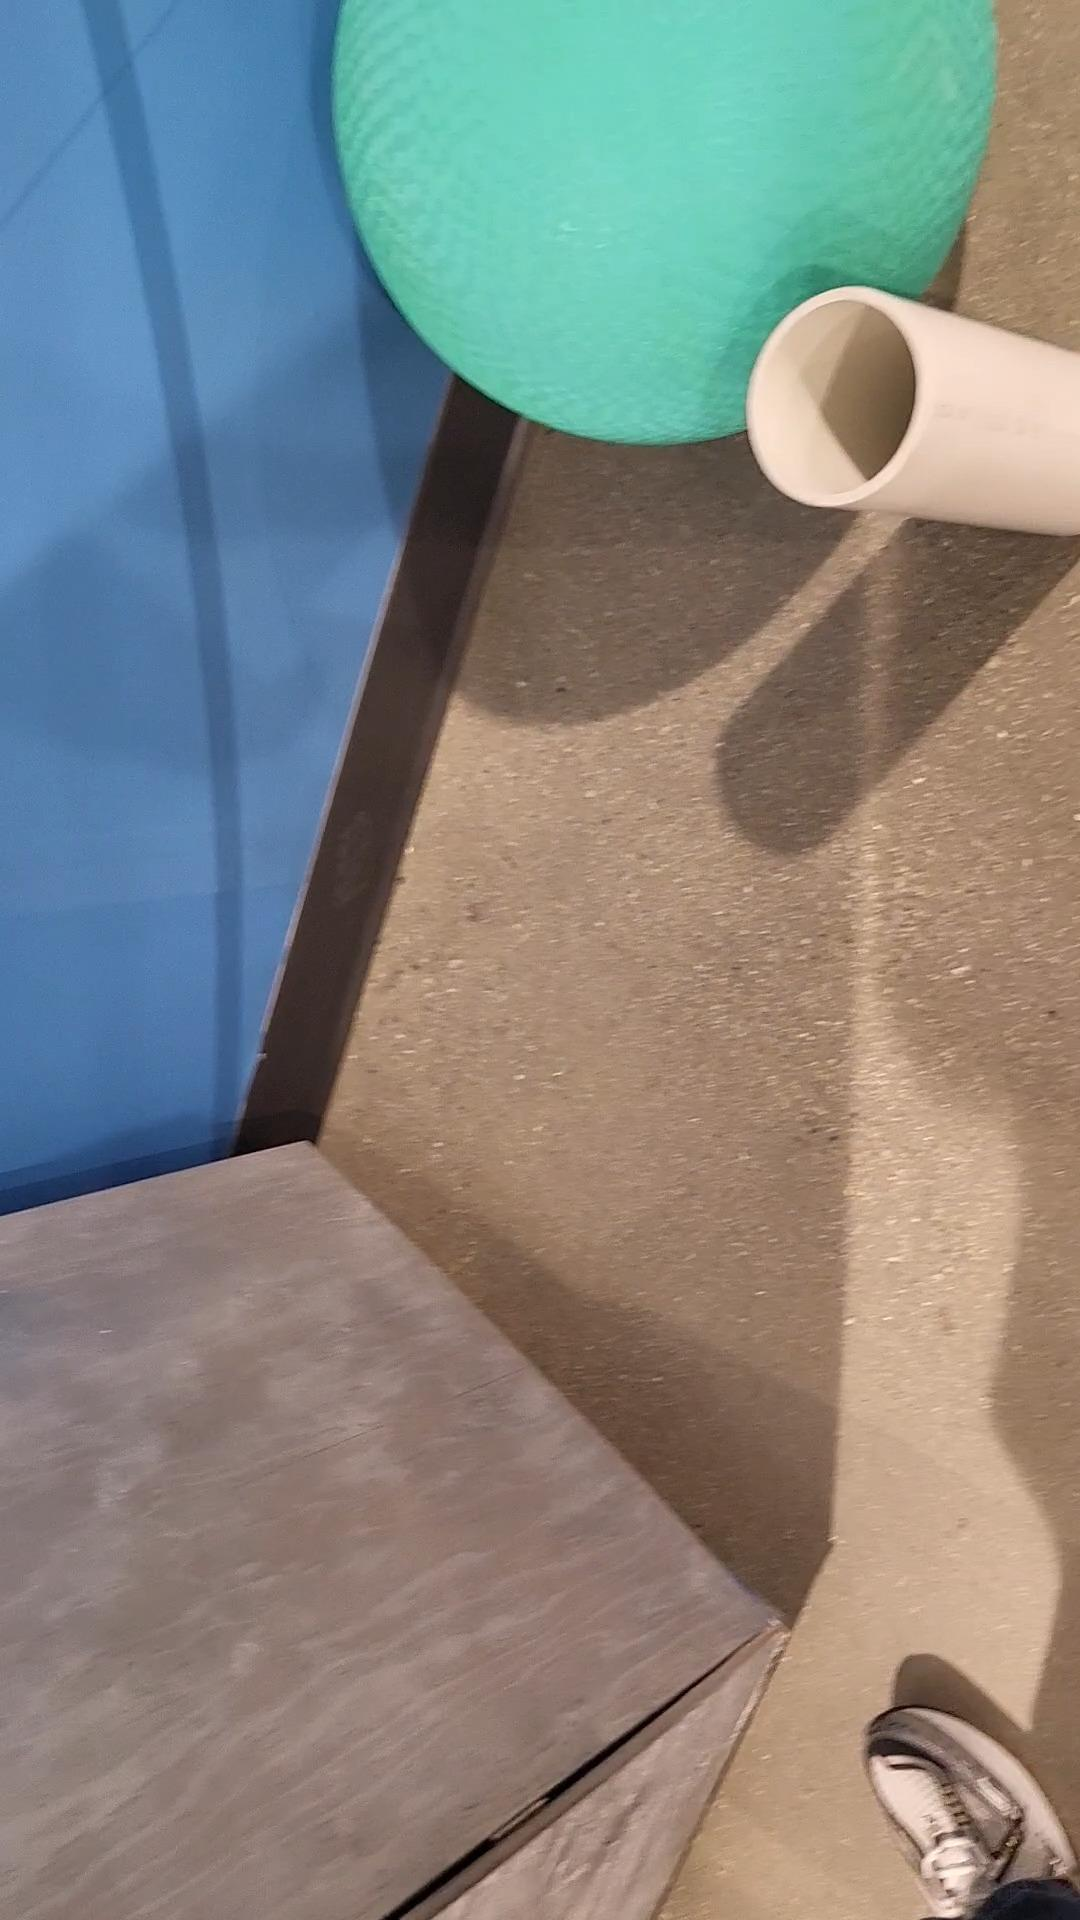algae: (340, 0, 1002, 443)
coral: (748, 290, 1079, 538)
